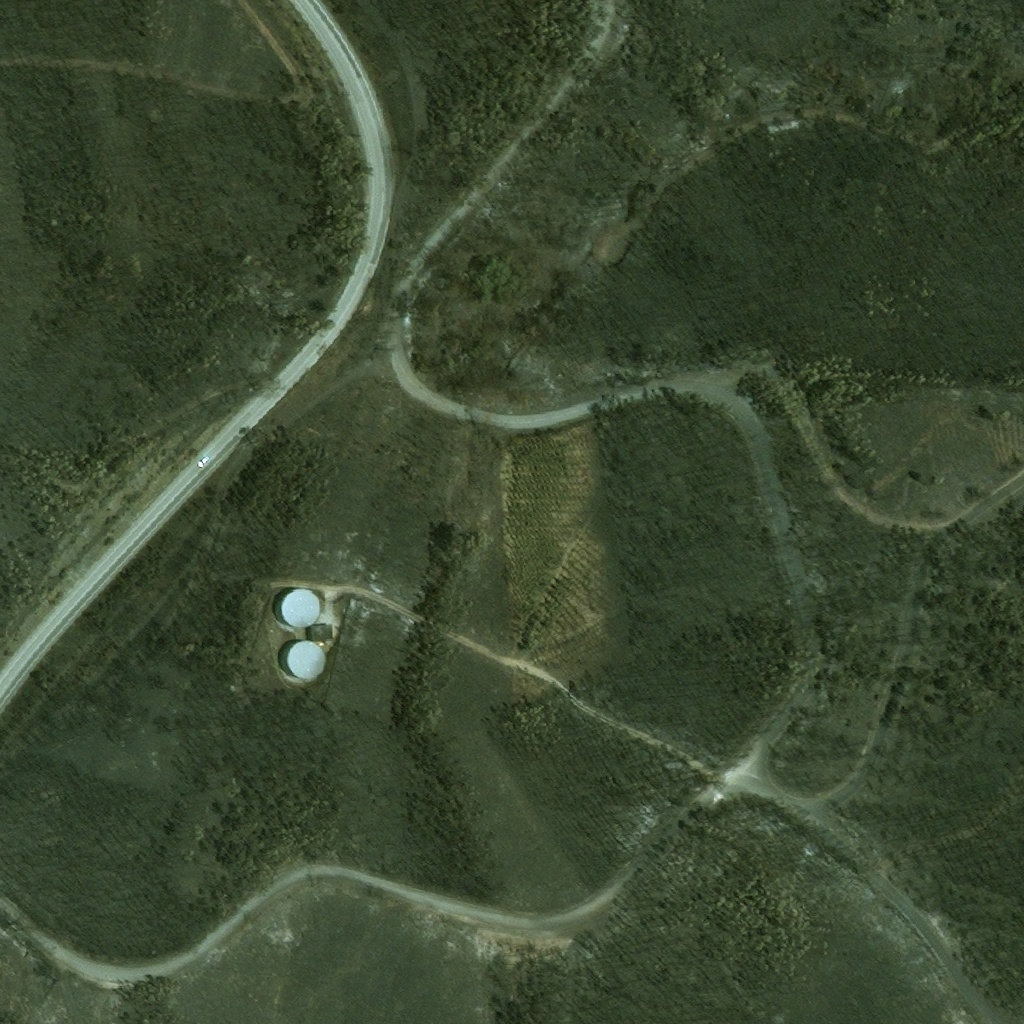0 no-damage: (274, 588, 320, 627), (279, 641, 324, 678), (309, 625, 329, 640)
